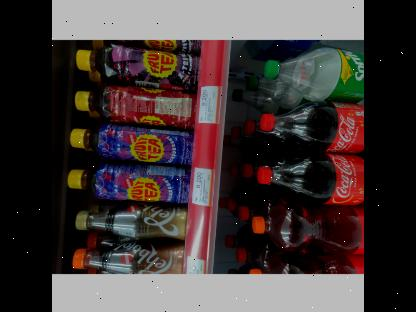Plastic Bottle: (249, 192, 364, 254), (252, 146, 364, 206), (257, 98, 364, 154), (76, 45, 200, 91), (76, 84, 197, 130), (262, 46, 364, 100), (70, 122, 193, 164), (68, 162, 190, 202), (72, 233, 183, 273), (75, 202, 187, 238)
